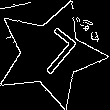L_SW: (21, 25, 79, 83)
